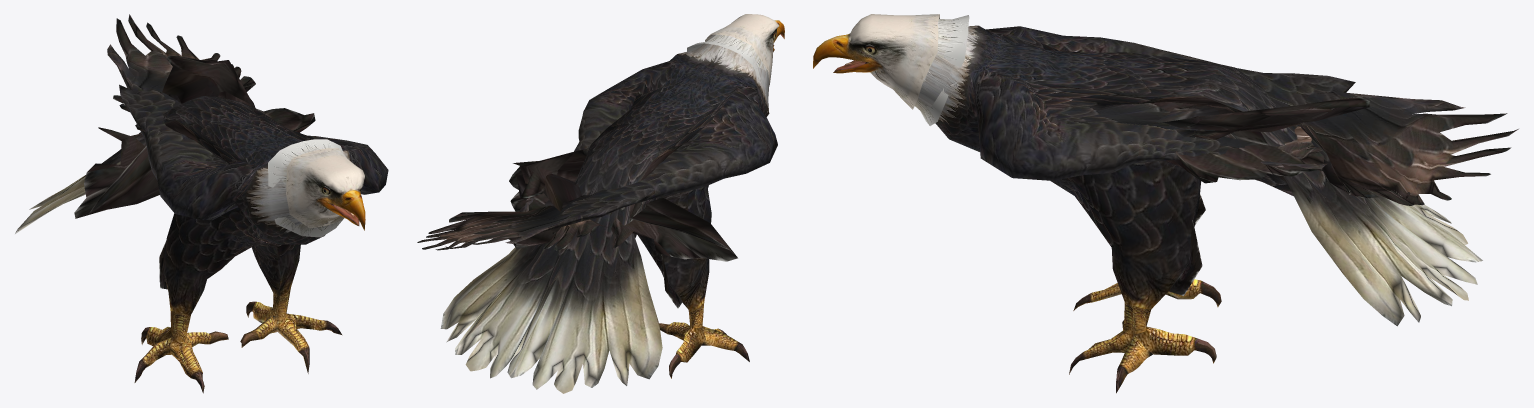
The model's file is rigged_eagle_3d_model.fbx.
3 views of the same model, side by side, from view 1: azimuth 30°, elevation 25°; view 2: azimuth 150°, elevation 25°; view 3: azimuth 270°, elevation 25° (orthographic). The views are drawn at different scales.
Visible parts, largest first — view 1: Object_2; view 2: Object_2; view 3: Object_2.
Boxes of the visible parts, x1,y1,x2,y2 form: Object_2: (15, 14, 388, 393); Object_2: (417, 14, 784, 393); Object_2: (813, 14, 1518, 393).
Size of the model in its own units: 42.8 by 45.77 by 89.55.
Materials: 1 (1 with a texture image).
